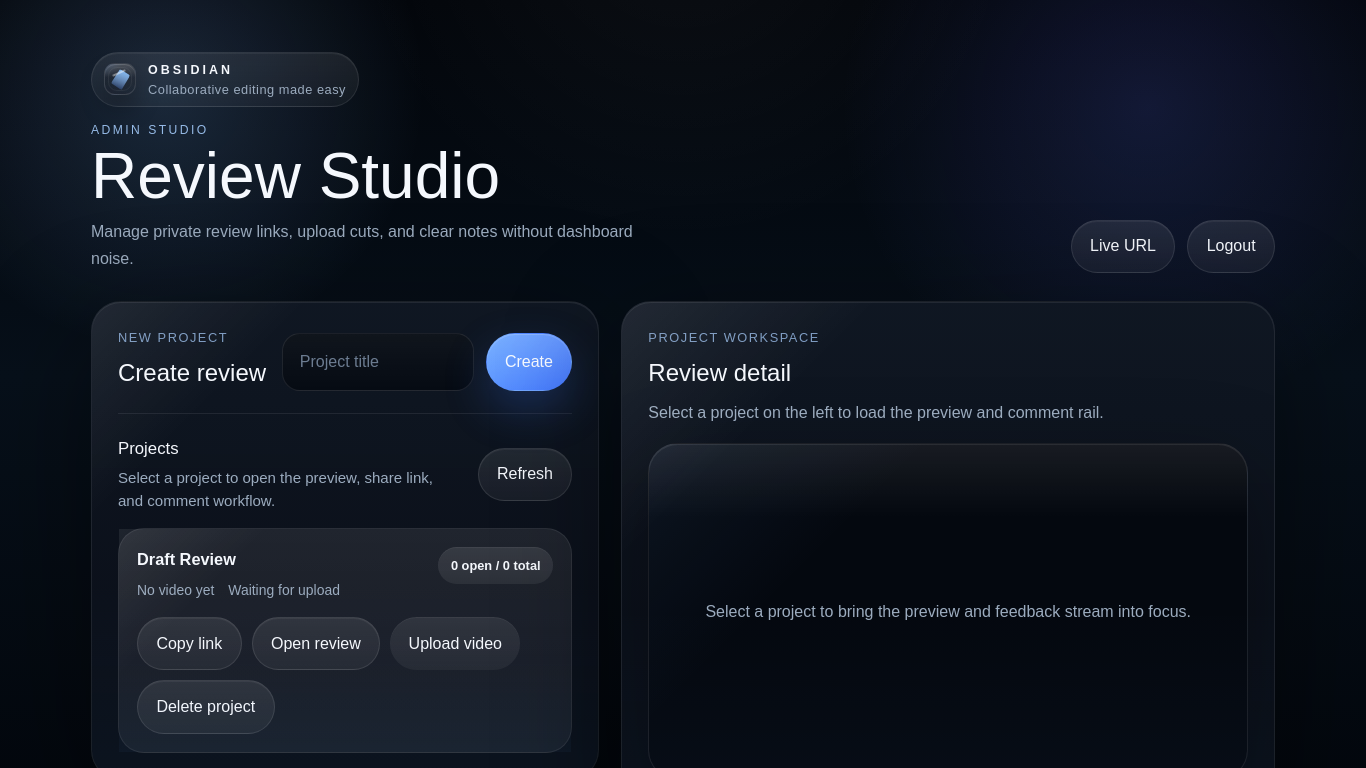
Scenario: AdminApp › does not render a preview video when the selected project has no uploaded video
Expected: the heading "Projects" is shown, x1=118 y1=439 x2=179 y2=458
Click the button "Draft Review" at [186, 560], box x1=137 y1=547 x2=236 y2=572
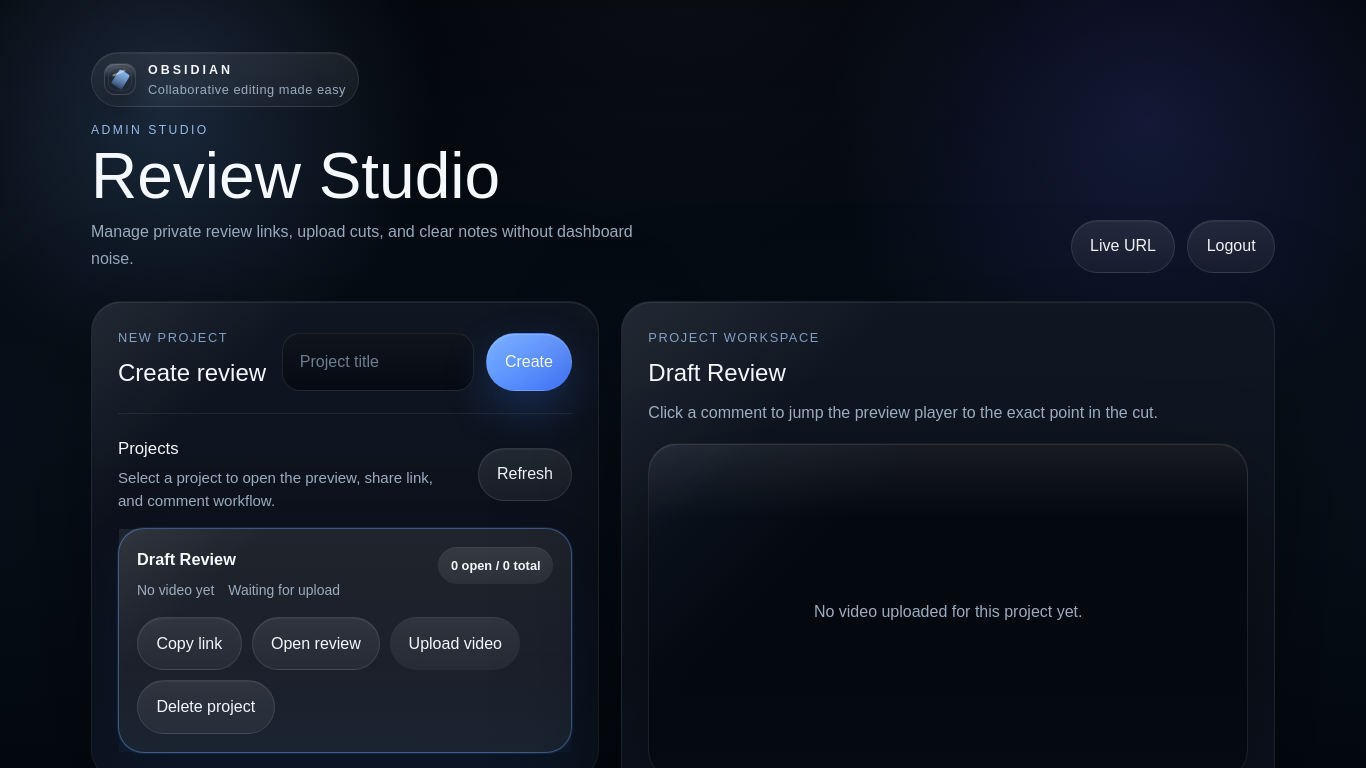
Now the text "No video uploaded for this project yet." is shown, box x1=814 y1=600 x2=1082 y2=624
